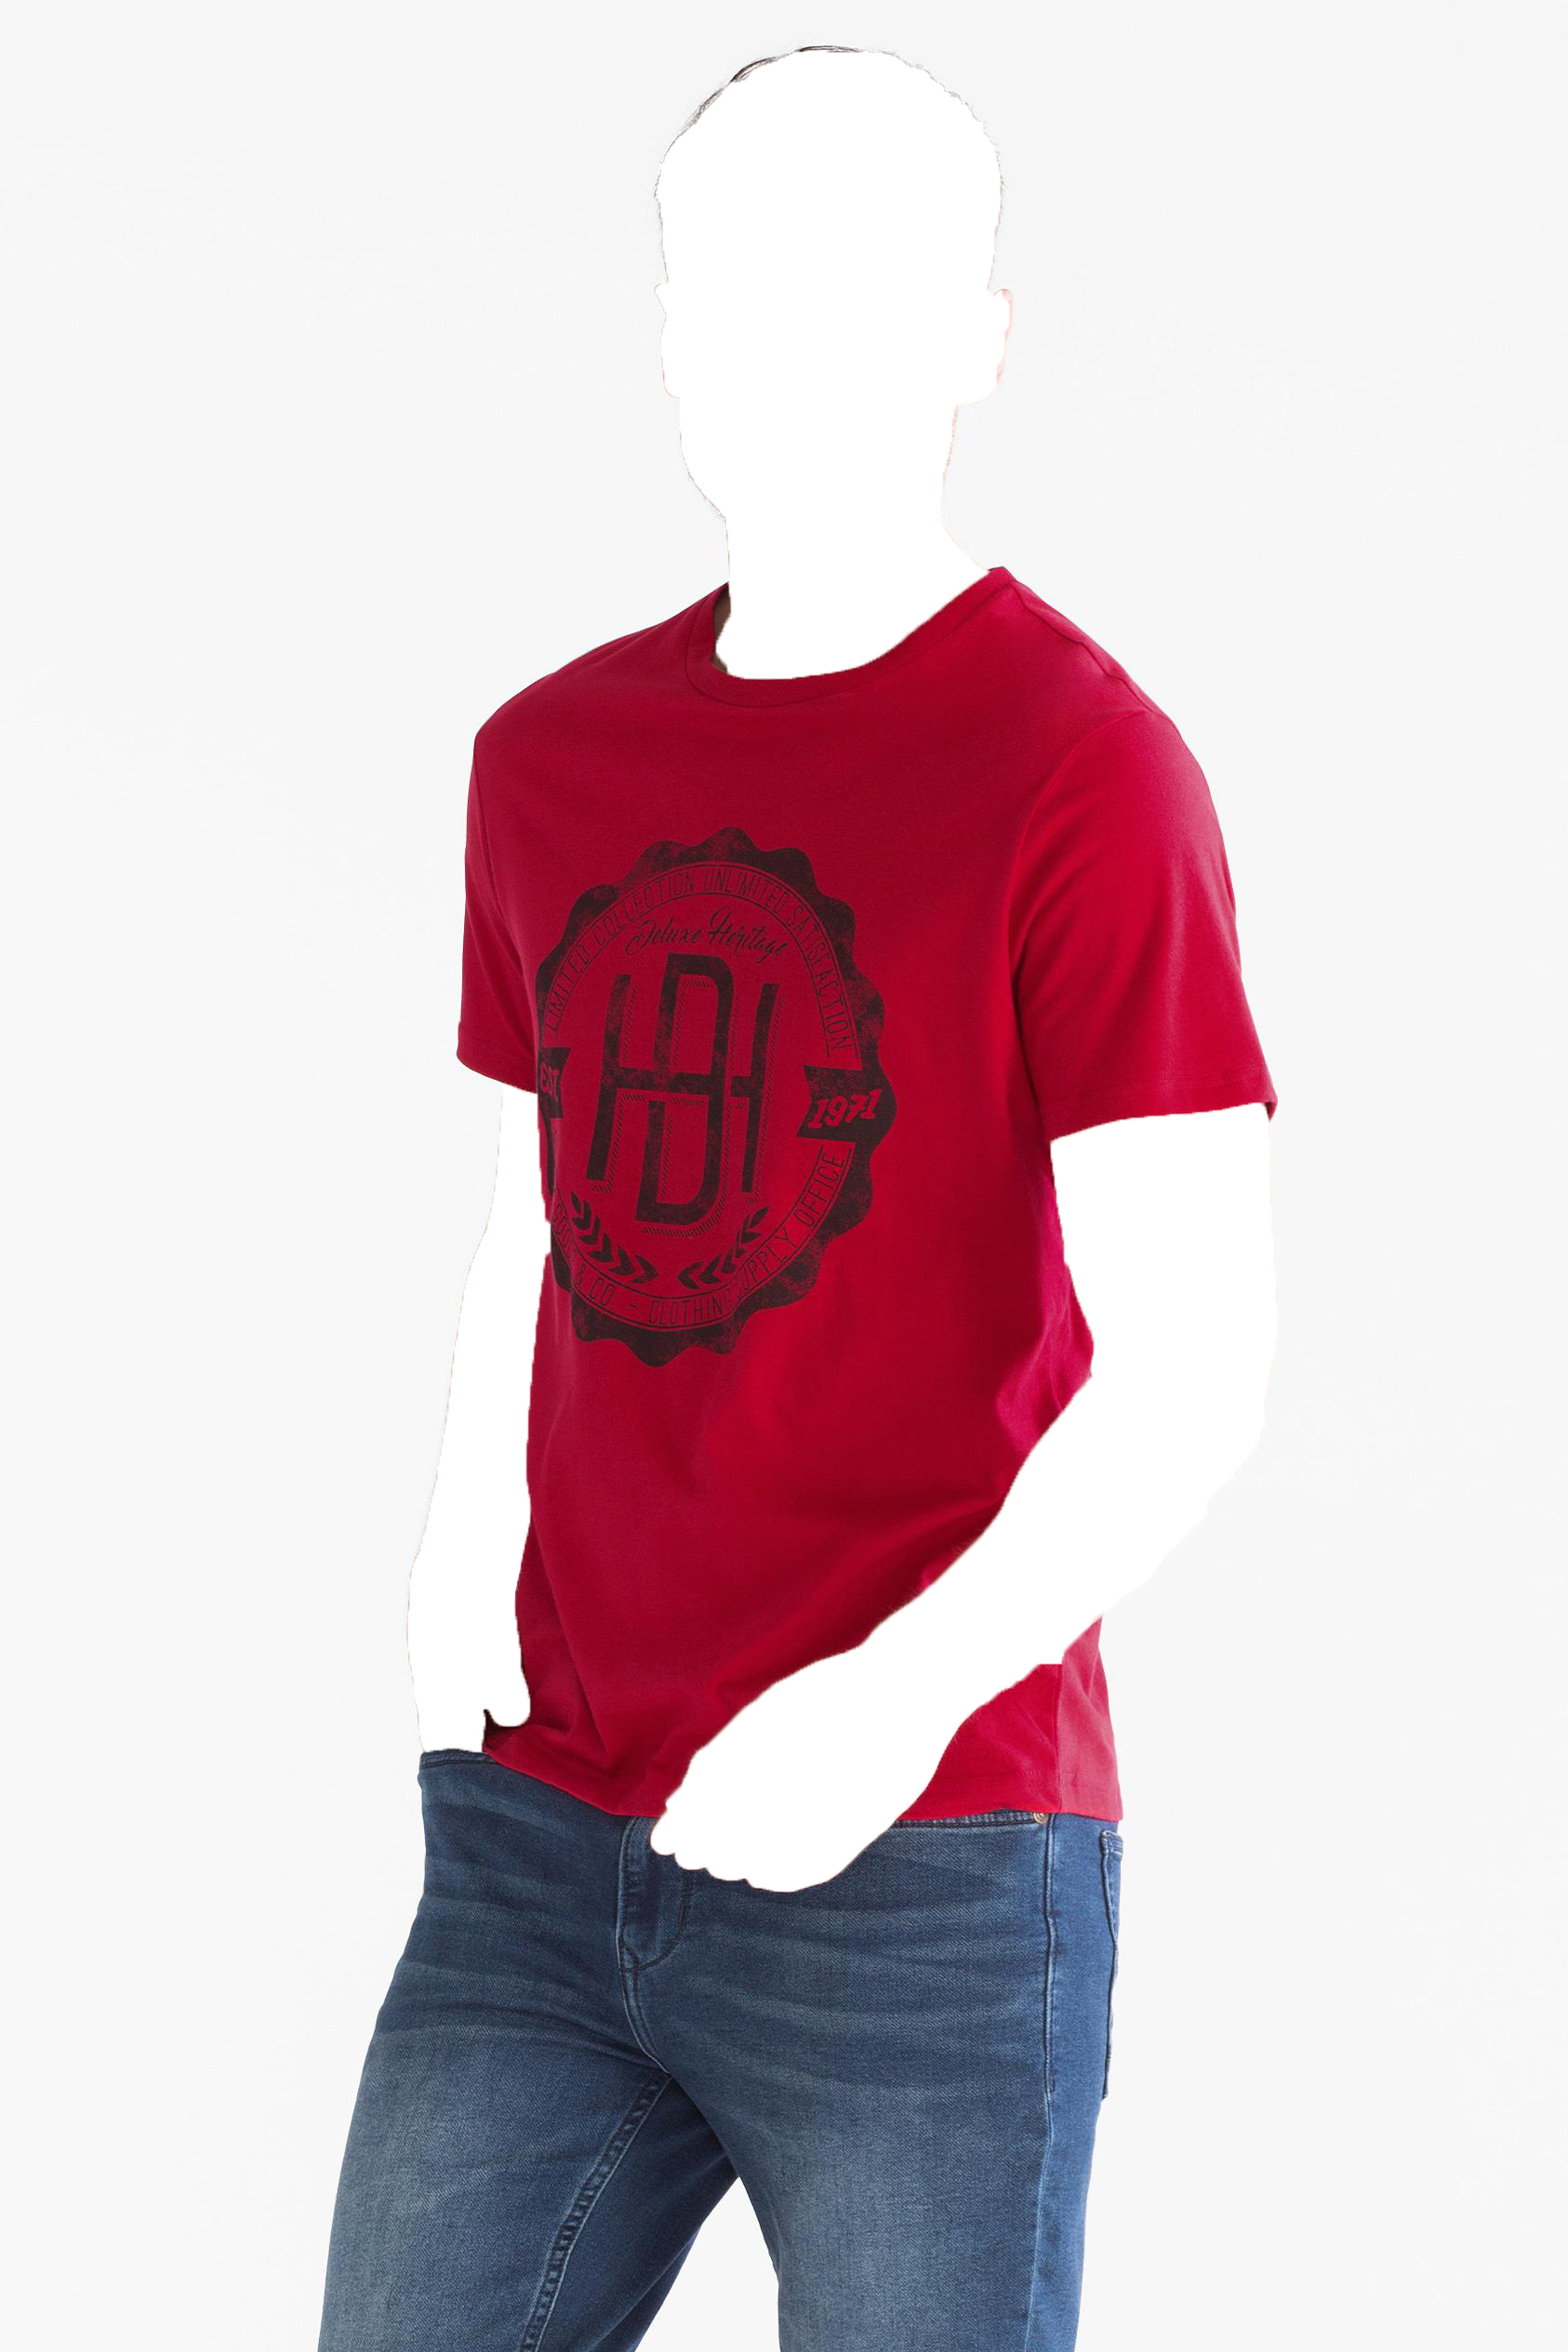teeshirt: (437, 574, 1304, 1855)
